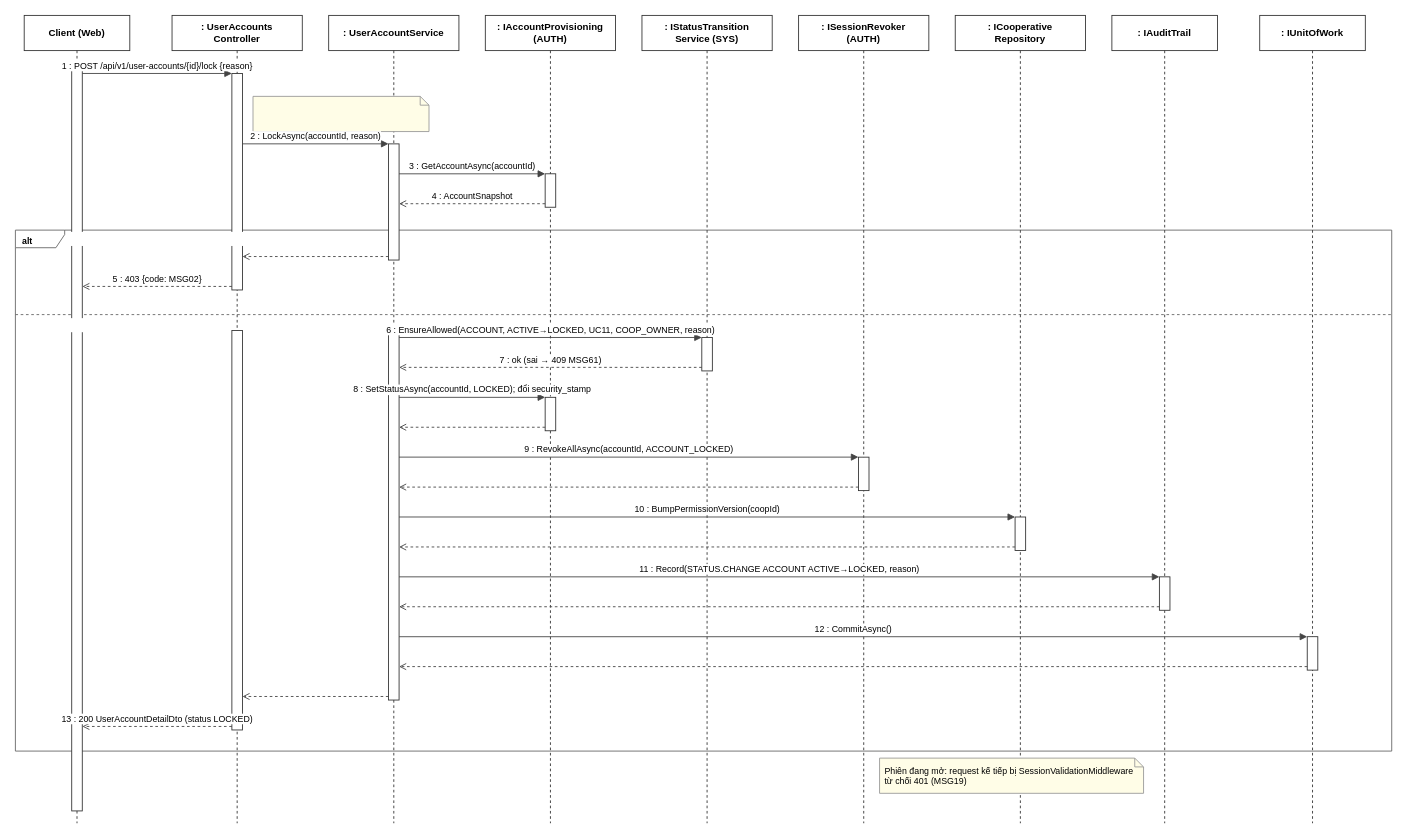
The diagram is 1407 pixels wide and 839 high, and some of its shapes have lost their labels. Here are the shapes that lost their labels. From the top down, the centre of each, then its label:
At (340,113): "pipeline: OwnerOnly (bảng 3.4-2: Chủ HTX)".
At (183,238): "[đích là Chủ HTX hoặc Quản trị hệ thống (1e)]".
At (98,325): "[tài khoản nhân viên cùng HTX]".
